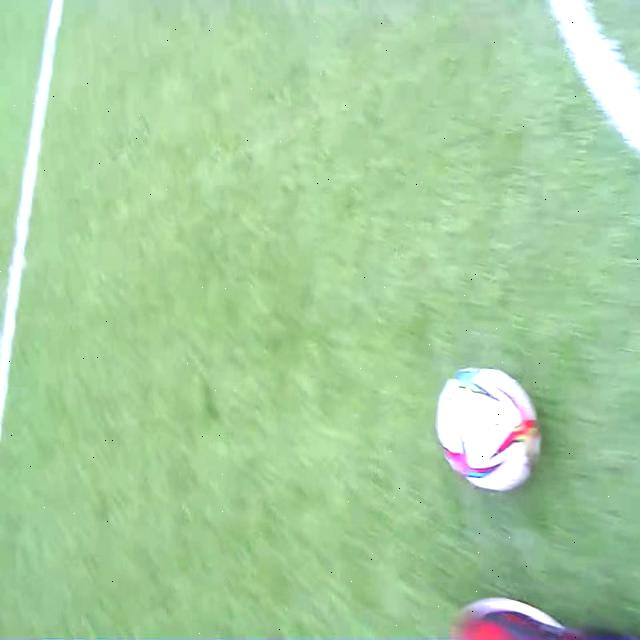ball: (437, 364, 541, 494)
